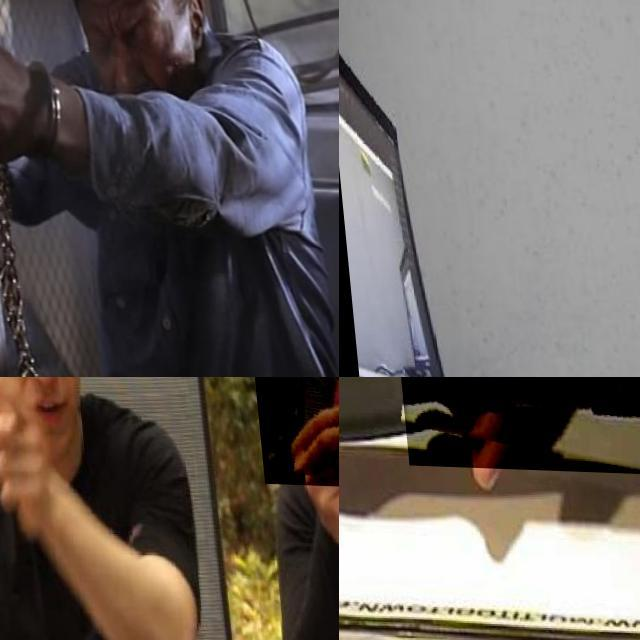-: (388, 377, 640, 474), (245, 377, 339, 486)
gun-knife-thesis - v11 Yolov5 augmented: (0, 0, 86, 138)
